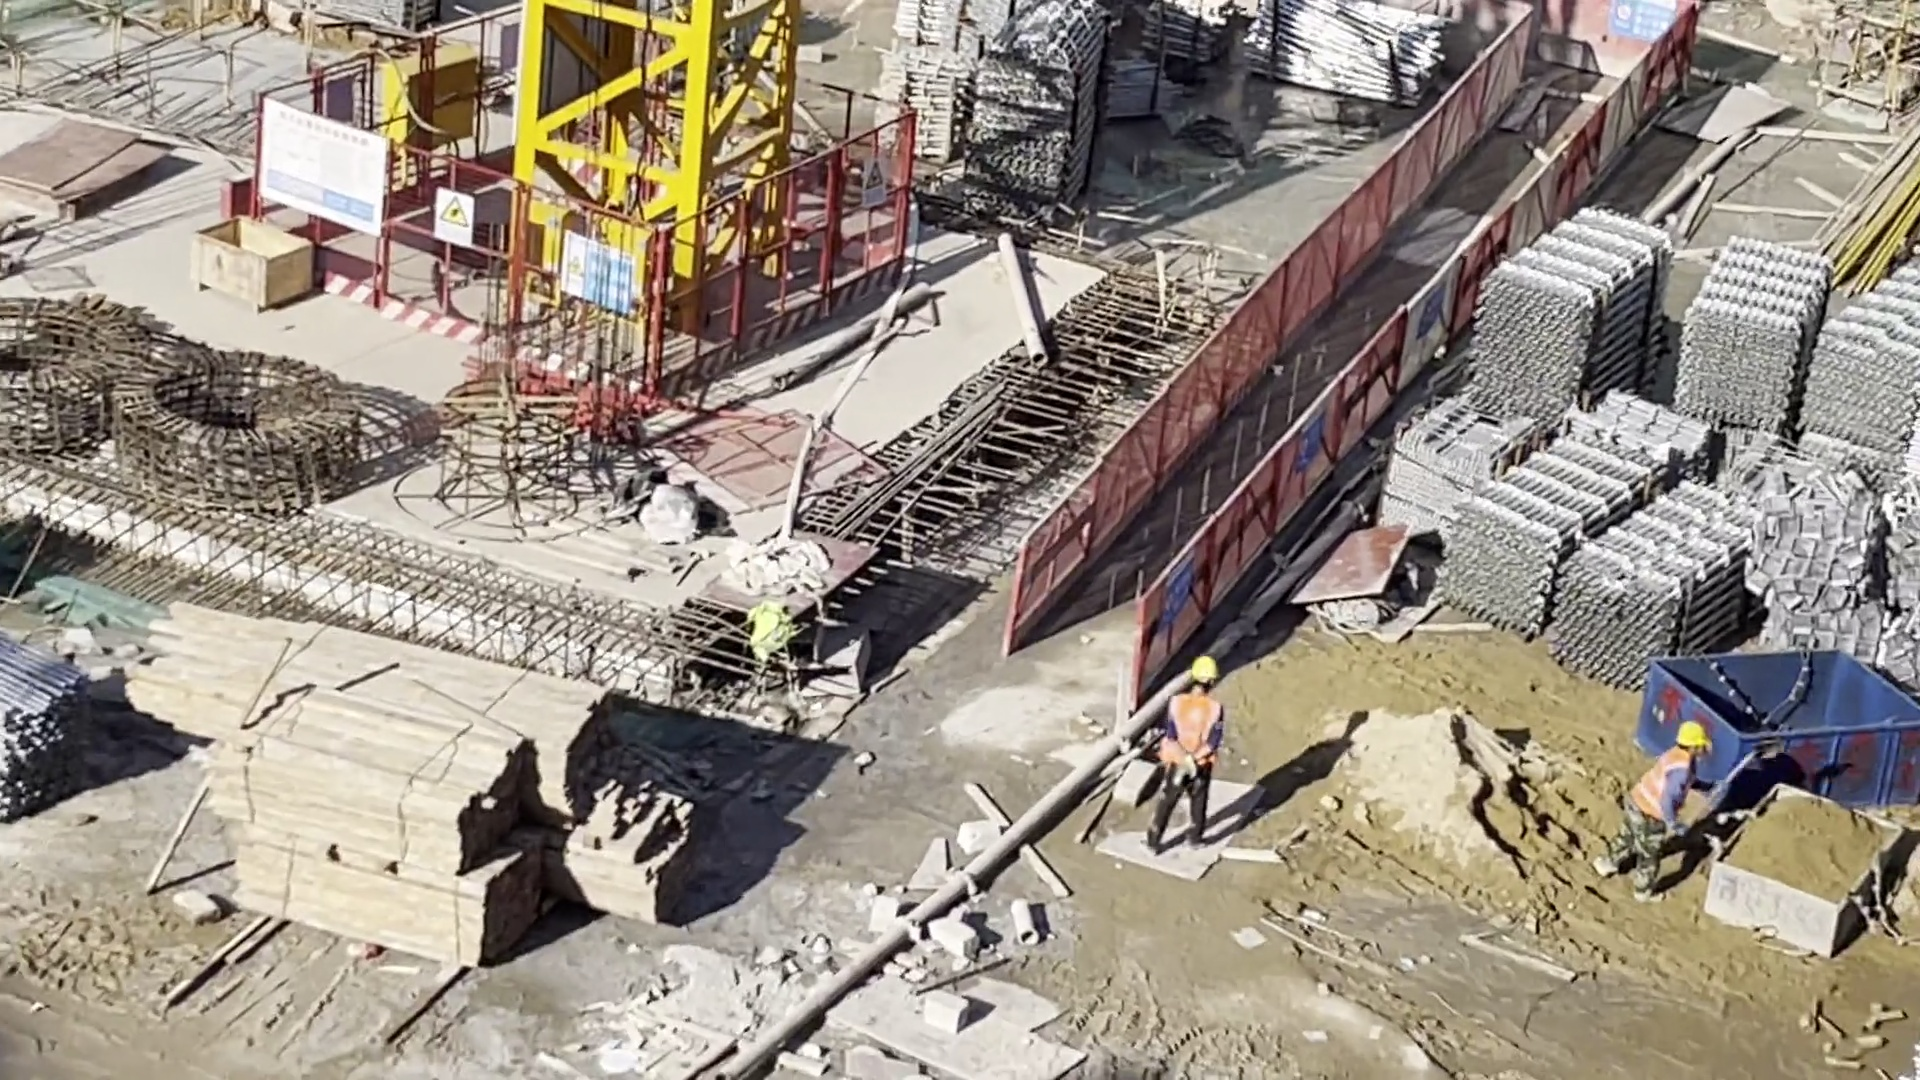board: (8, 124, 159, 212)
ebox: (382, 39, 486, 157)
fence: (1016, 8, 1696, 710)
helmet: (1190, 656, 1218, 680), (1677, 723, 1705, 745)
hopper: (1647, 650, 1920, 810), (1706, 783, 1902, 958)
person: (1598, 722, 1702, 900), (1150, 654, 1225, 847)
scaffold: (1442, 431, 1662, 642), (1554, 480, 1766, 680), (1487, 207, 1653, 428), (1684, 231, 1827, 435), (1801, 253, 1920, 454), (985, 3, 1102, 204), (1249, 1, 1438, 114), (1, 643, 93, 819), (877, 34, 971, 172), (1141, 1, 1236, 73), (898, 6, 1017, 50)
slogan: (561, 242, 628, 311), (1609, 3, 1681, 38), (433, 191, 474, 243), (1166, 551, 1189, 627), (1297, 408, 1323, 470), (862, 156, 890, 204)
vest: (1167, 695, 1217, 770), (1629, 751, 1686, 810)
wood: (150, 616, 611, 830), (227, 701, 547, 970)
